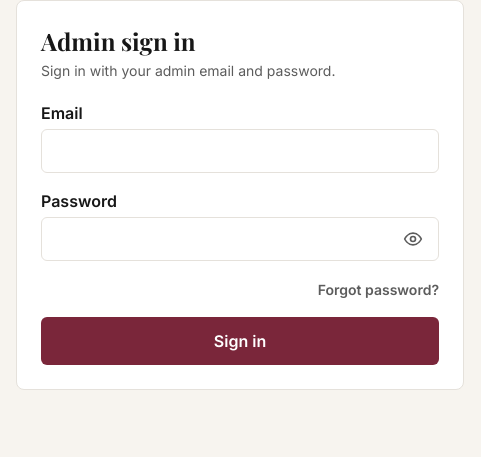
Test: LoginForm › keeps the entered values and shows a plain-words error on wrong credentials
Type "owner@example.com" into the field labelled "Email". click: (240,151)
box: top-left (41, 129), bottom-right (439, 173)
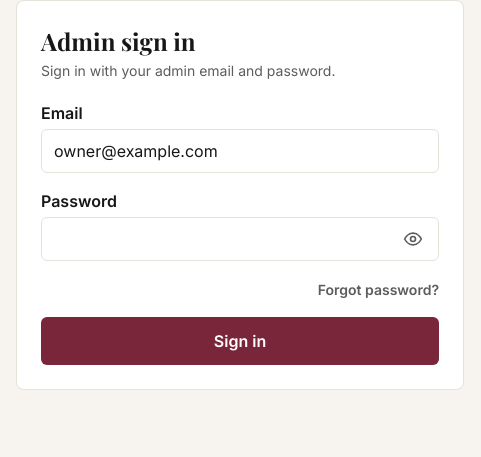
Type "not-the-password" into the password field labelled "Password". click: (240,239)
box: top-left (41, 217), bottom-right (439, 261)
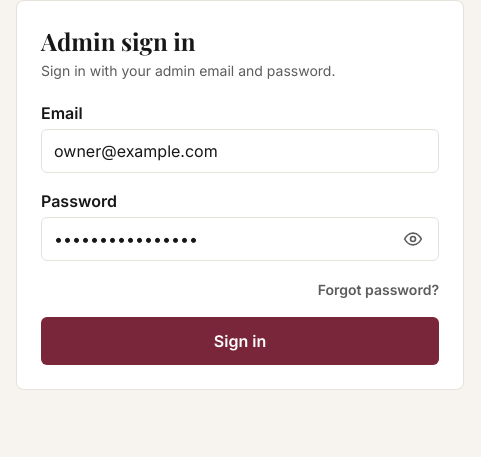
Click the button "Sign in". click: (240,341)
box: top-left (41, 317), bottom-right (439, 365)
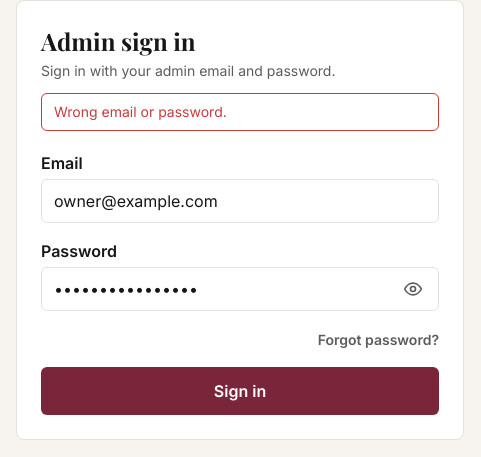
Expected: the text "Wrong email or password." is shown, top-left (41, 93), bottom-right (439, 131)
